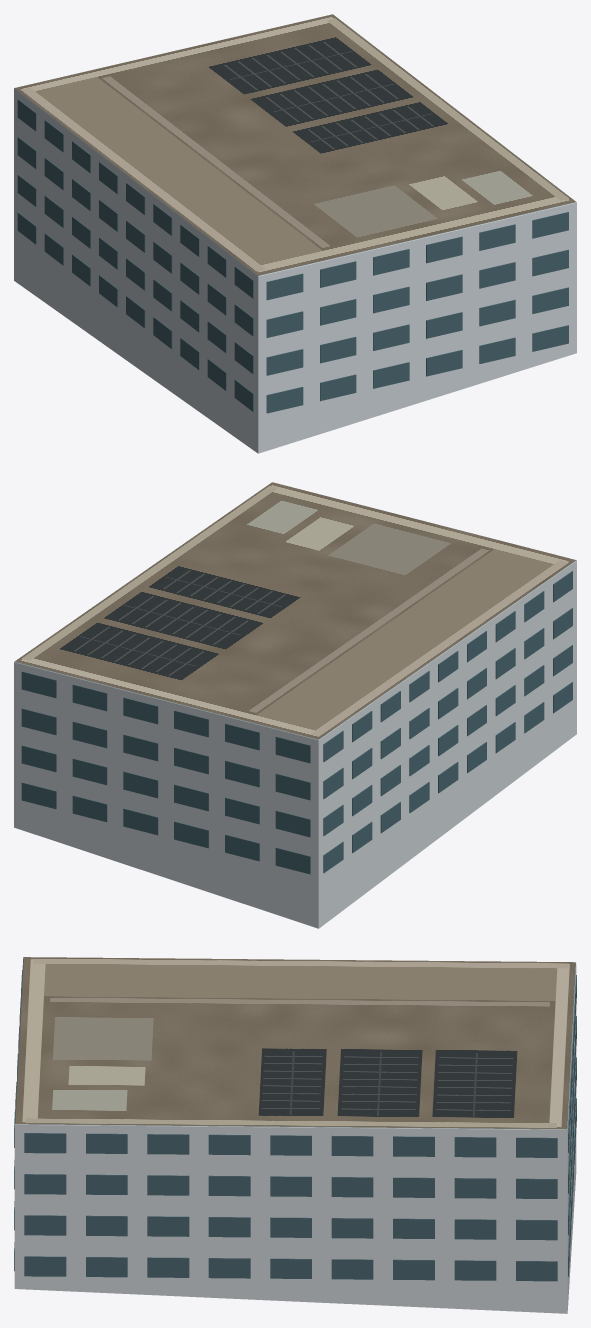
The model's file is fragments.glb.
The picture shows the model from 3 angles, top to bottom: view 1: azimuth 30°, elevation 25°; view 2: azimuth 150°, elevation 25°; view 3: azimuth 270°, elevation 25°; orthographic projection. The views are drawn at different scales.
Parts seen in each view (by area): view 1: SM_pp-structural_Fragment_010, SM_pp-structural_Fragment_037, SM_pp-structural_Fragment_000, SM_pp-structural_Fragment_023, SM_pp-structural_Fragment_029, SM_pp-structural_Fragment_024, SM_pp-structural_Fragment_011, SM_pp-structural_Fragment_026, SM_pp-structural_Fragment_016, SM_pp-structural_Fragment_056, SM_pp-structural_Fragment_009, SM_pp-structural_Fragment_018 (+24 smaller); view 2: SM_pp-structural_Fragment_020, SM_pp-structural_Fragment_001, SM_pp-structural_Fragment_008, SM_pp-structural_Fragment_040, SM_pp-structural_Fragment_031, SM_pp-structural_Fragment_045, SM_pp-structural_Fragment_011, SM_pp-structural_Fragment_016, SM_pp-structural_Fragment_007, SM_pp-structural_Fragment_026, SM_pp-structural_Fragment_018, SM_pp-structural_Fragment_029 (+25 smaller); view 3: SM_pp-structural_Fragment_002, SM_pp-structural_Fragment_009, SM_pp-structural_Fragment_023, SM_pp-structural_Fragment_035, SM_pp-structural_Fragment_007, SM_pp-structural_Fragment_034, SM_pp-structural_Fragment_015, SM_pp-structural_Fragment_026, SM_pp-structural_Fragment_016, SM_pp-structural_Fragment_022, SM_pp-structural_Fragment_038, SM_pp-structural_Fragment_024 (+18 smaller).
Part boxes in pixels (bbox=[...]): SM_pp-structural_Fragment_010: bbox=[295, 219, 409, 363]; SM_pp-structural_Fragment_037: bbox=[225, 330, 356, 453]; SM_pp-structural_Fragment_000: bbox=[403, 238, 532, 363]; SM_pp-structural_Fragment_023: bbox=[458, 170, 576, 299]; SM_pp-structural_Fragment_029: bbox=[205, 233, 320, 340]; SM_pp-structural_Fragment_024: bbox=[332, 182, 480, 286]; SM_pp-structural_Fragment_011: bbox=[42, 106, 163, 218]; SM_pp-structural_Fragment_026: bbox=[203, 86, 360, 150]; SM_pp-structural_Fragment_016: bbox=[205, 32, 353, 93]; SM_pp-structural_Fragment_056: bbox=[336, 324, 423, 428]; SM_pp-structural_Fragment_009: bbox=[395, 121, 535, 189]; SM_pp-structural_Fragment_018: bbox=[91, 199, 149, 342]; SM_pp-structural_Fragment_020: bbox=[225, 713, 360, 861]; SM_pp-structural_Fragment_001: bbox=[225, 828, 350, 928]; SM_pp-structural_Fragment_008: bbox=[198, 672, 308, 810]; SM_pp-structural_Fragment_040: bbox=[100, 737, 226, 850]; SM_pp-structural_Fragment_031: bbox=[103, 676, 210, 777]; SM_pp-structural_Fragment_045: bbox=[14, 721, 107, 822]; SM_pp-structural_Fragment_011: bbox=[317, 660, 429, 759]; SM_pp-structural_Fragment_016: bbox=[72, 627, 220, 738]; SM_pp-structural_Fragment_007: bbox=[14, 626, 89, 753]; SM_pp-structural_Fragment_026: bbox=[162, 604, 323, 656]; SM_pp-structural_Fragment_018: bbox=[400, 708, 461, 843]; SM_pp-structural_Fragment_029: bbox=[483, 545, 576, 639]; SM_pp-structural_Fragment_002: bbox=[264, 1088, 459, 1220]; SM_pp-structural_Fragment_009: bbox=[106, 1073, 251, 1206]; SM_pp-structural_Fragment_023: bbox=[14, 1073, 127, 1219]; SM_pp-structural_Fragment_035: bbox=[350, 1201, 531, 1311]; SM_pp-structural_Fragment_007: bbox=[454, 1088, 569, 1232]; SM_pp-structural_Fragment_034: bbox=[125, 1194, 267, 1298]; SM_pp-structural_Fragment_015: bbox=[14, 1201, 131, 1294]; SM_pp-structural_Fragment_026: bbox=[290, 1020, 439, 1088]; SM_pp-structural_Fragment_016: bbox=[407, 1042, 571, 1133]; SM_pp-structural_Fragment_022: bbox=[207, 1082, 308, 1231]; SM_pp-structural_Fragment_038: bbox=[270, 1202, 392, 1293]; SM_pp-structural_Fragment_024: bbox=[17, 1017, 143, 1083].
Bounding box in the file's own units: 1.6 × 0.9062 × 2.2.
5 materials, 1 textured.
